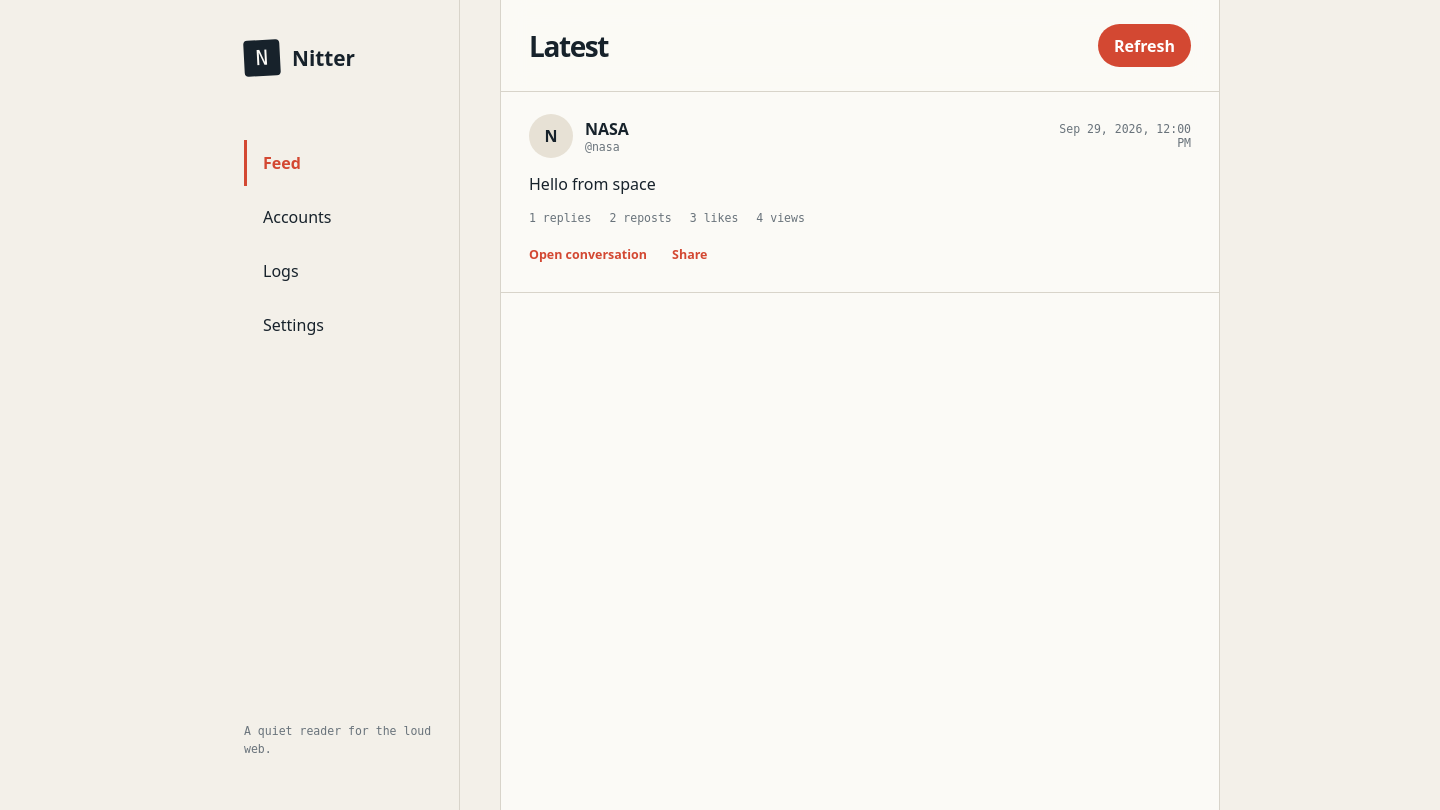
shares the Nitter post link on /
The image size is (1440, 810).
Click the button "Share" at (690, 254), box x1=661 y1=239 x2=719 y2=270
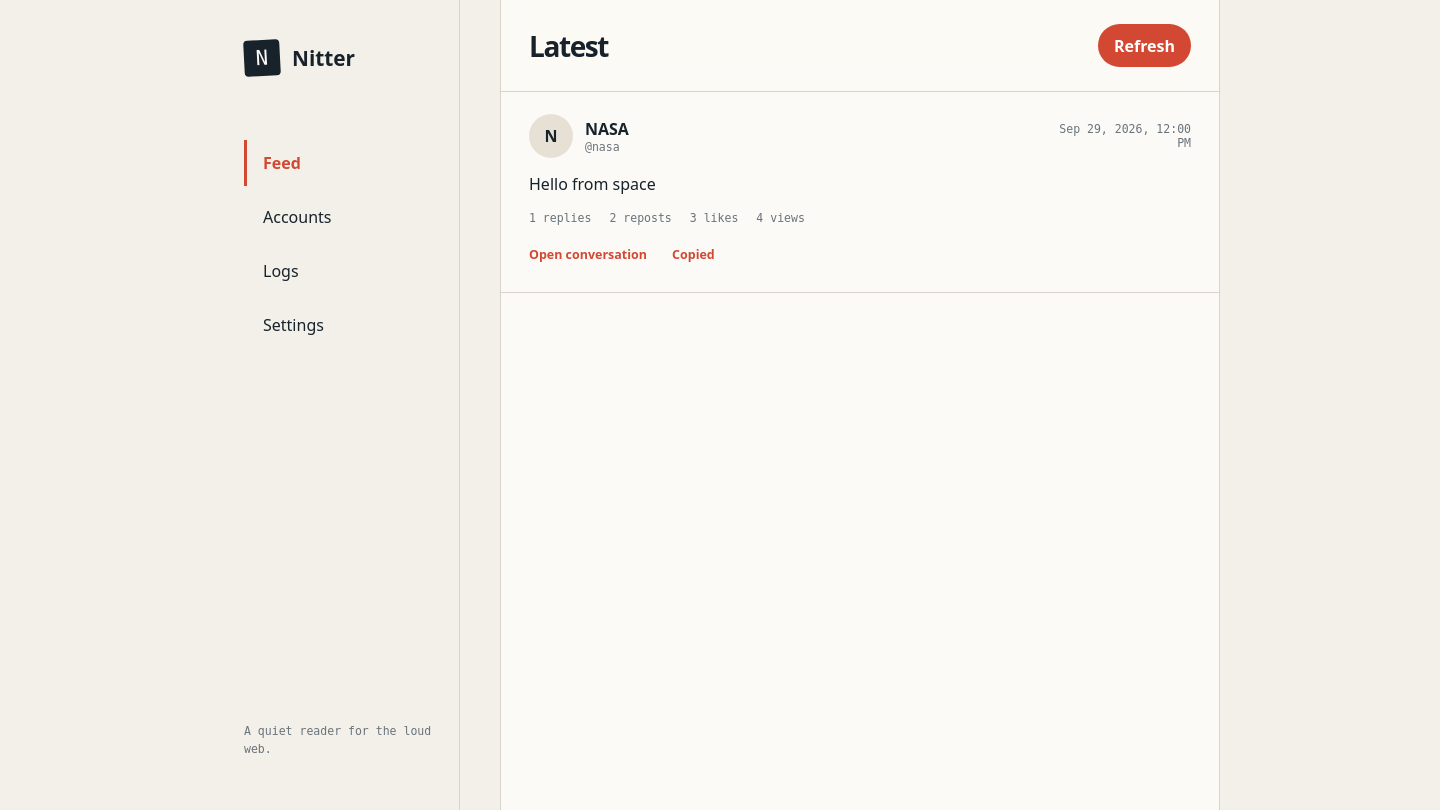
Expected: the heading "Latest" is shown, x1=529 y1=26 x2=608 y2=64
Now the button "Copied" is shown, box x1=661 y1=239 x2=726 y2=270
